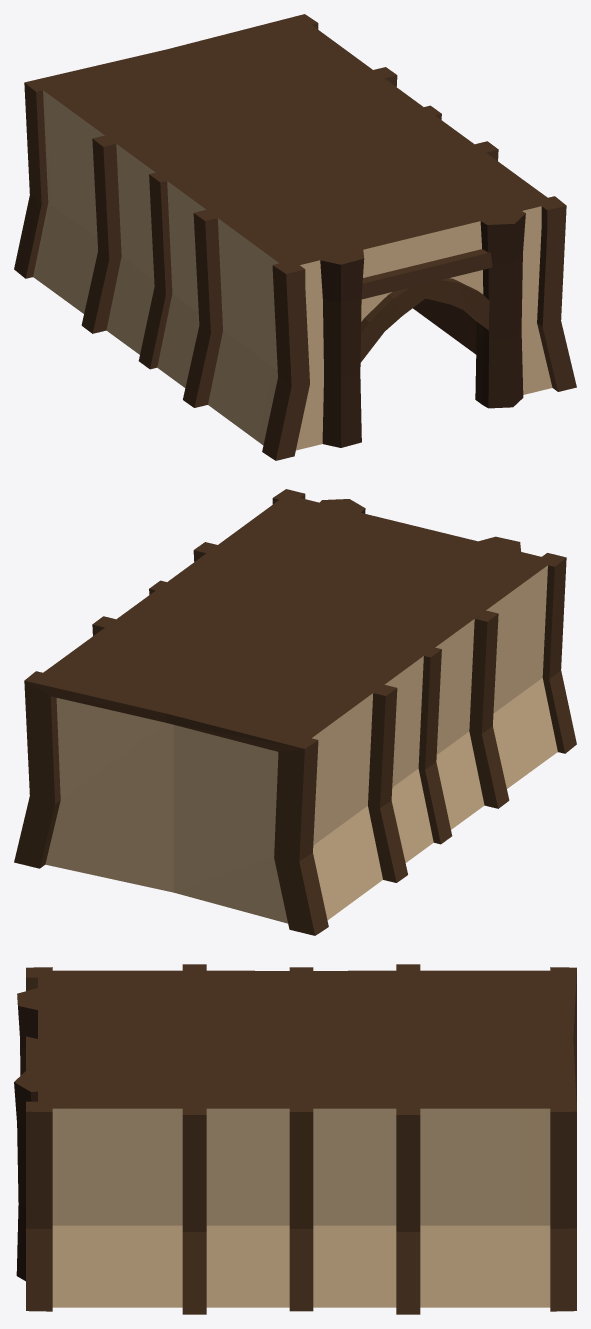
File: Tribal_Plains_Tent_Base_Hide_Wood_Timber_Large_01.fbx
3 views of the same model, one above another, from view 1: azimuth 30°, elevation 25°; view 2: azimuth 150°, elevation 25°; view 3: azimuth 270°, elevation 25° (orthographic). The views are drawn at different scales.
Parts seen in each view (by area): view 1: Tribal_Plains_Tent_Base_Hide_Wood_Timber_Large_01; view 2: Tribal_Plains_Tent_Base_Hide_Wood_Timber_Large_01; view 3: Tribal_Plains_Tent_Base_Hide_Wood_Timber_Large_01.
Boxes of the visible parts, bbox=[...] form: Tribal_Plains_Tent_Base_Hide_Wood_Timber_Large_01: bbox=[14, 14, 576, 460]; Tribal_Plains_Tent_Base_Hide_Wood_Timber_Large_01: bbox=[14, 489, 576, 935]; Tribal_Plains_Tent_Base_Hide_Wood_Timber_Large_01: bbox=[14, 964, 576, 1314].
Size of the model in its own units: 7.06 by 3.94 by 10.36.
